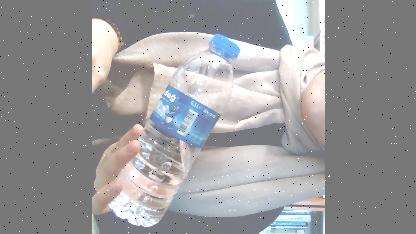Plastic Bottle: (103, 32, 243, 230)
